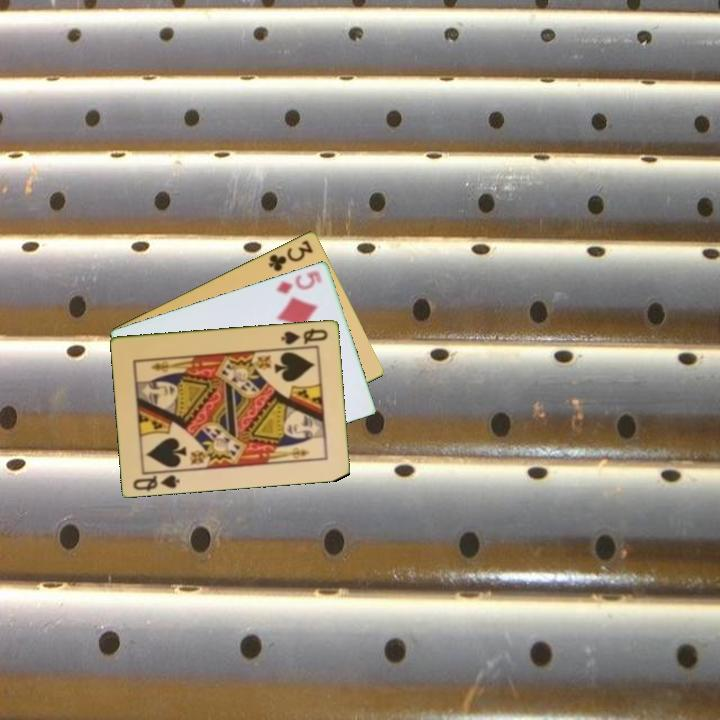3c: (265, 236, 316, 274)
5d: (272, 269, 326, 296)
Qs: (278, 324, 331, 347), (130, 471, 183, 494)
